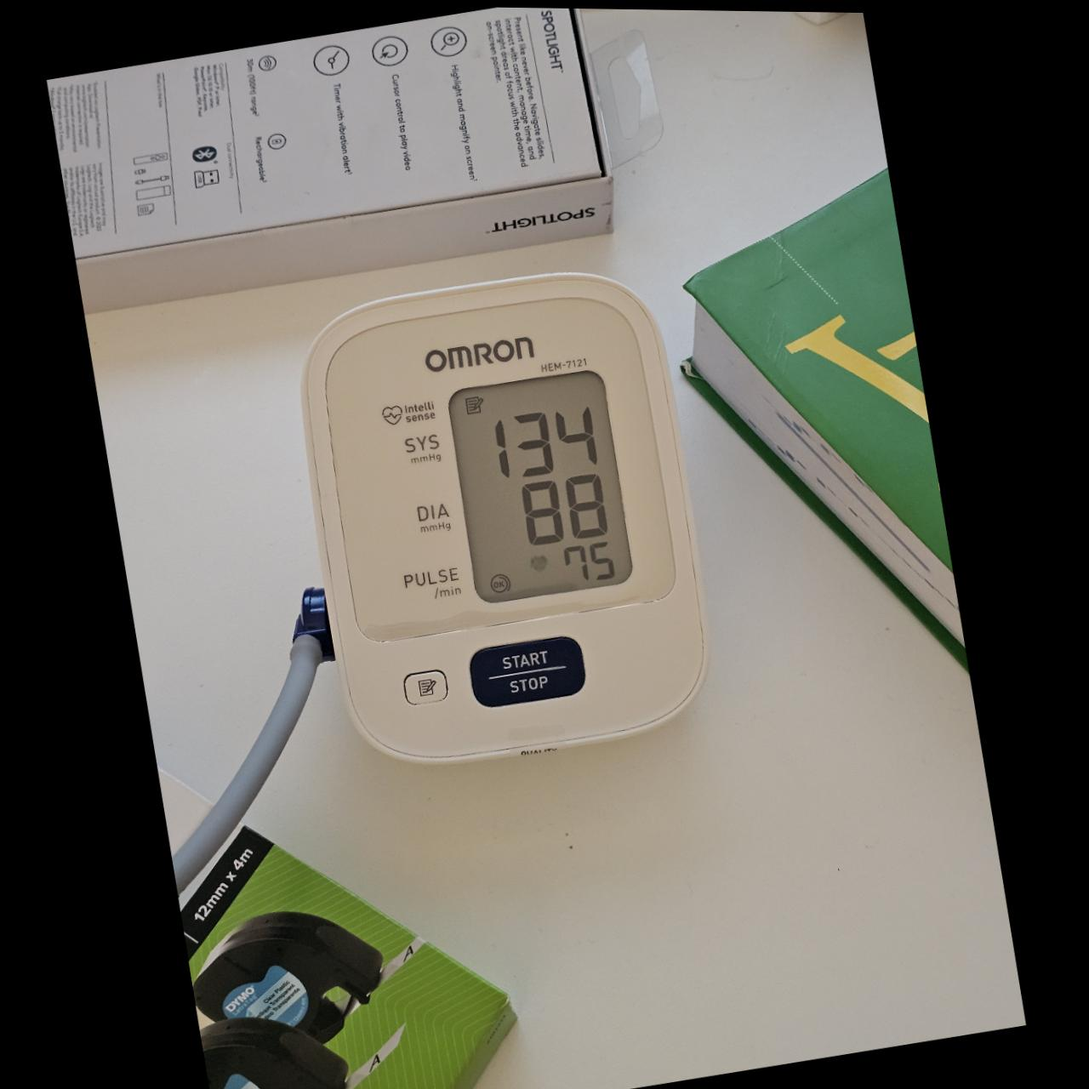lcd display: (440, 364, 642, 610)
